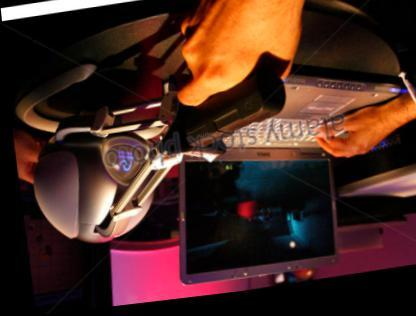pistol: (154, 48, 292, 175)
